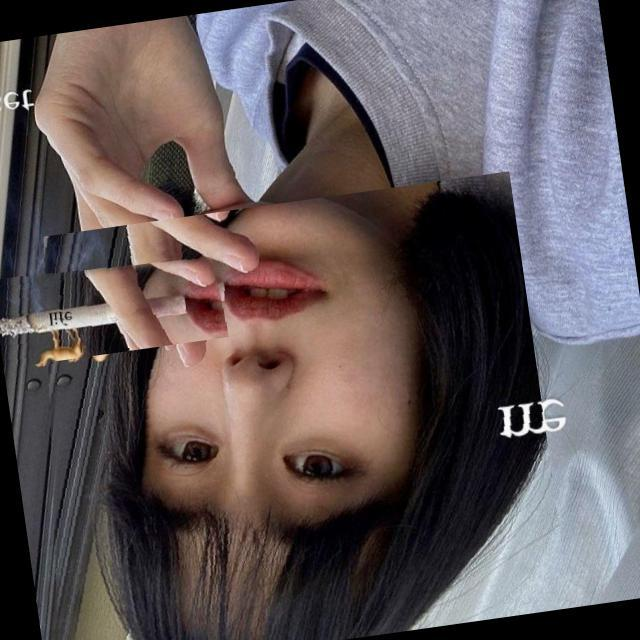cigarette: (0, 248, 229, 369)
